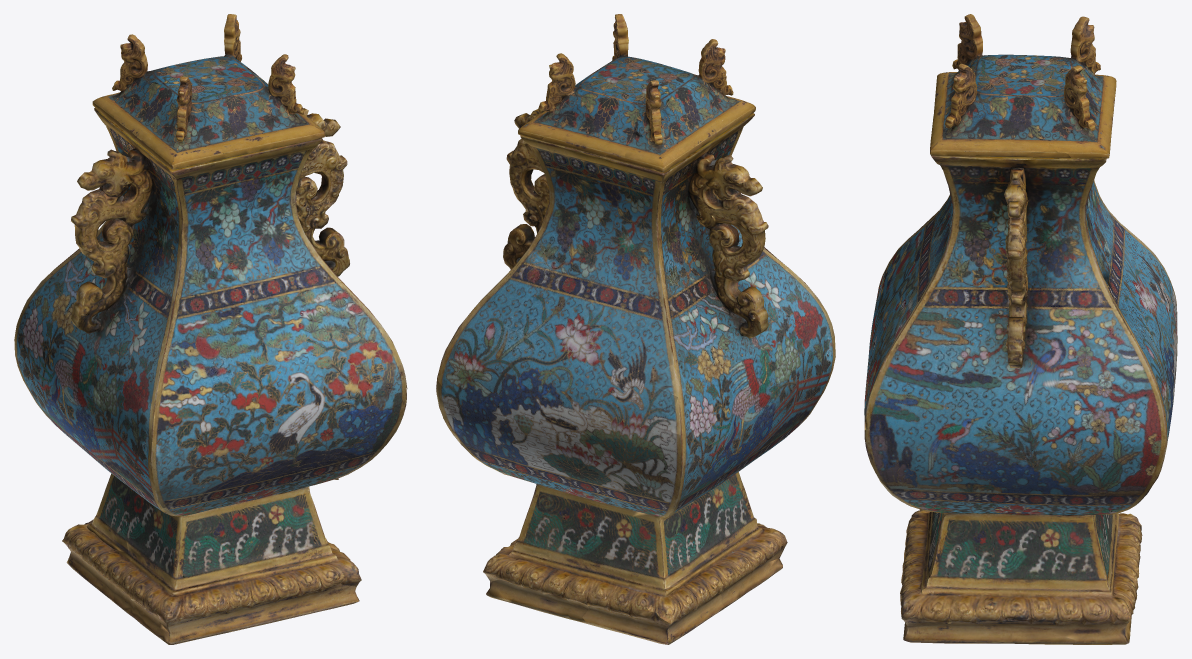
File: zhongshitaocijingtailanpinglu.glb
3 renders of one model, left to right at view 1: azimuth 30°, elevation 25°; view 2: azimuth 150°, elevation 25°; view 3: azimuth 270°, elevation 25°, orthographic. The views are drawn at different scales.
Visible parts, largest first — view 1: Obj3d66-9065973-2-310, Obj3d66-9065973-3-953; view 2: Obj3d66-9065973-2-310, Obj3d66-9065973-3-953; view 3: Obj3d66-9065973-2-310, Obj3d66-9065973-3-953.
Boxes of the visible parts, <box> form: Obj3d66-9065973-2-310: <box>14,108,407,644</box>; Obj3d66-9065973-3-953: <box>92,14,325,169</box>; Obj3d66-9065973-2-310: <box>436,109,835,644</box>; Obj3d66-9065973-3-953: <box>518,14,755,172</box>; Obj3d66-9065973-2-310: <box>864,155,1177,644</box>; Obj3d66-9065973-3-953: <box>930,14,1116,158</box>.
Size of the model in its own units: 76.24 by 148 by 75.17.
2 materials, 2 textured.
